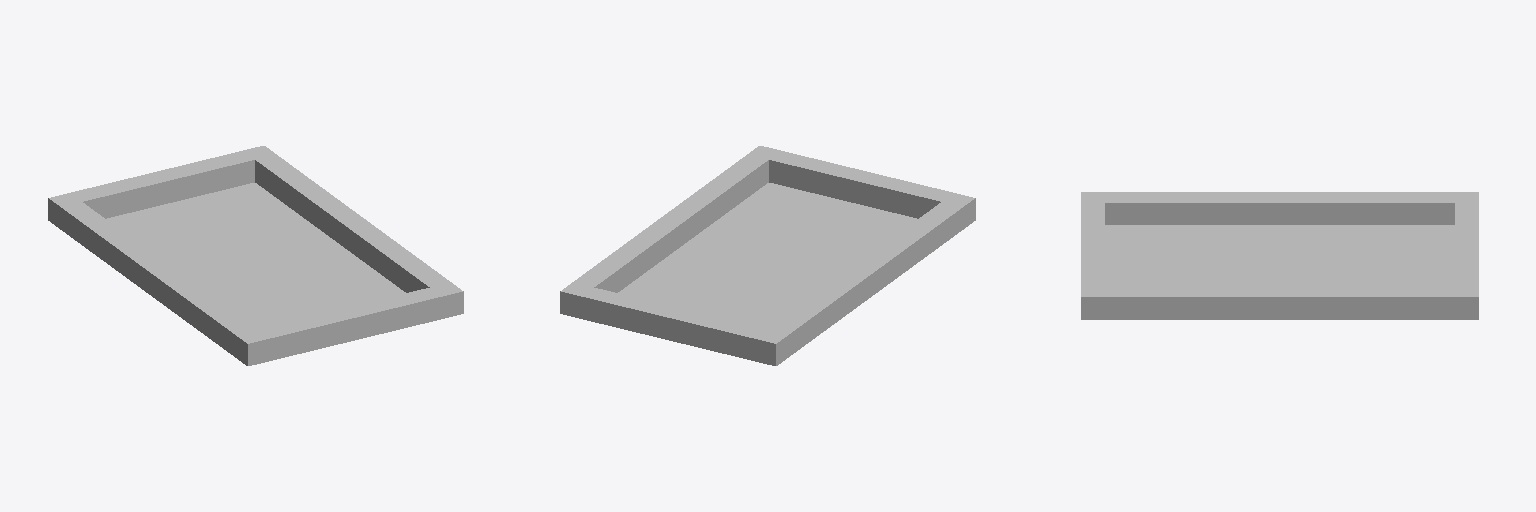
File: ball_pit.obj
3 renders of one model, left to right at view 1: azimuth 30°, elevation 25°; view 2: azimuth 150°, elevation 25°; view 3: azimuth 270°, elevation 25°, orthographic.
Parts seen in each view (by area): view 1: Plane; view 2: Plane; view 3: Plane.
Boxes of the visible parts, x1=… form: Plane: x1=48, y1=146, x2=463, y2=365; Plane: x1=560, y1=146, x2=975, y2=365; Plane: x1=1081, y1=192, x2=1478, y2=319.
Size of the model in its own units: 2.5 by 0.25 by 4.